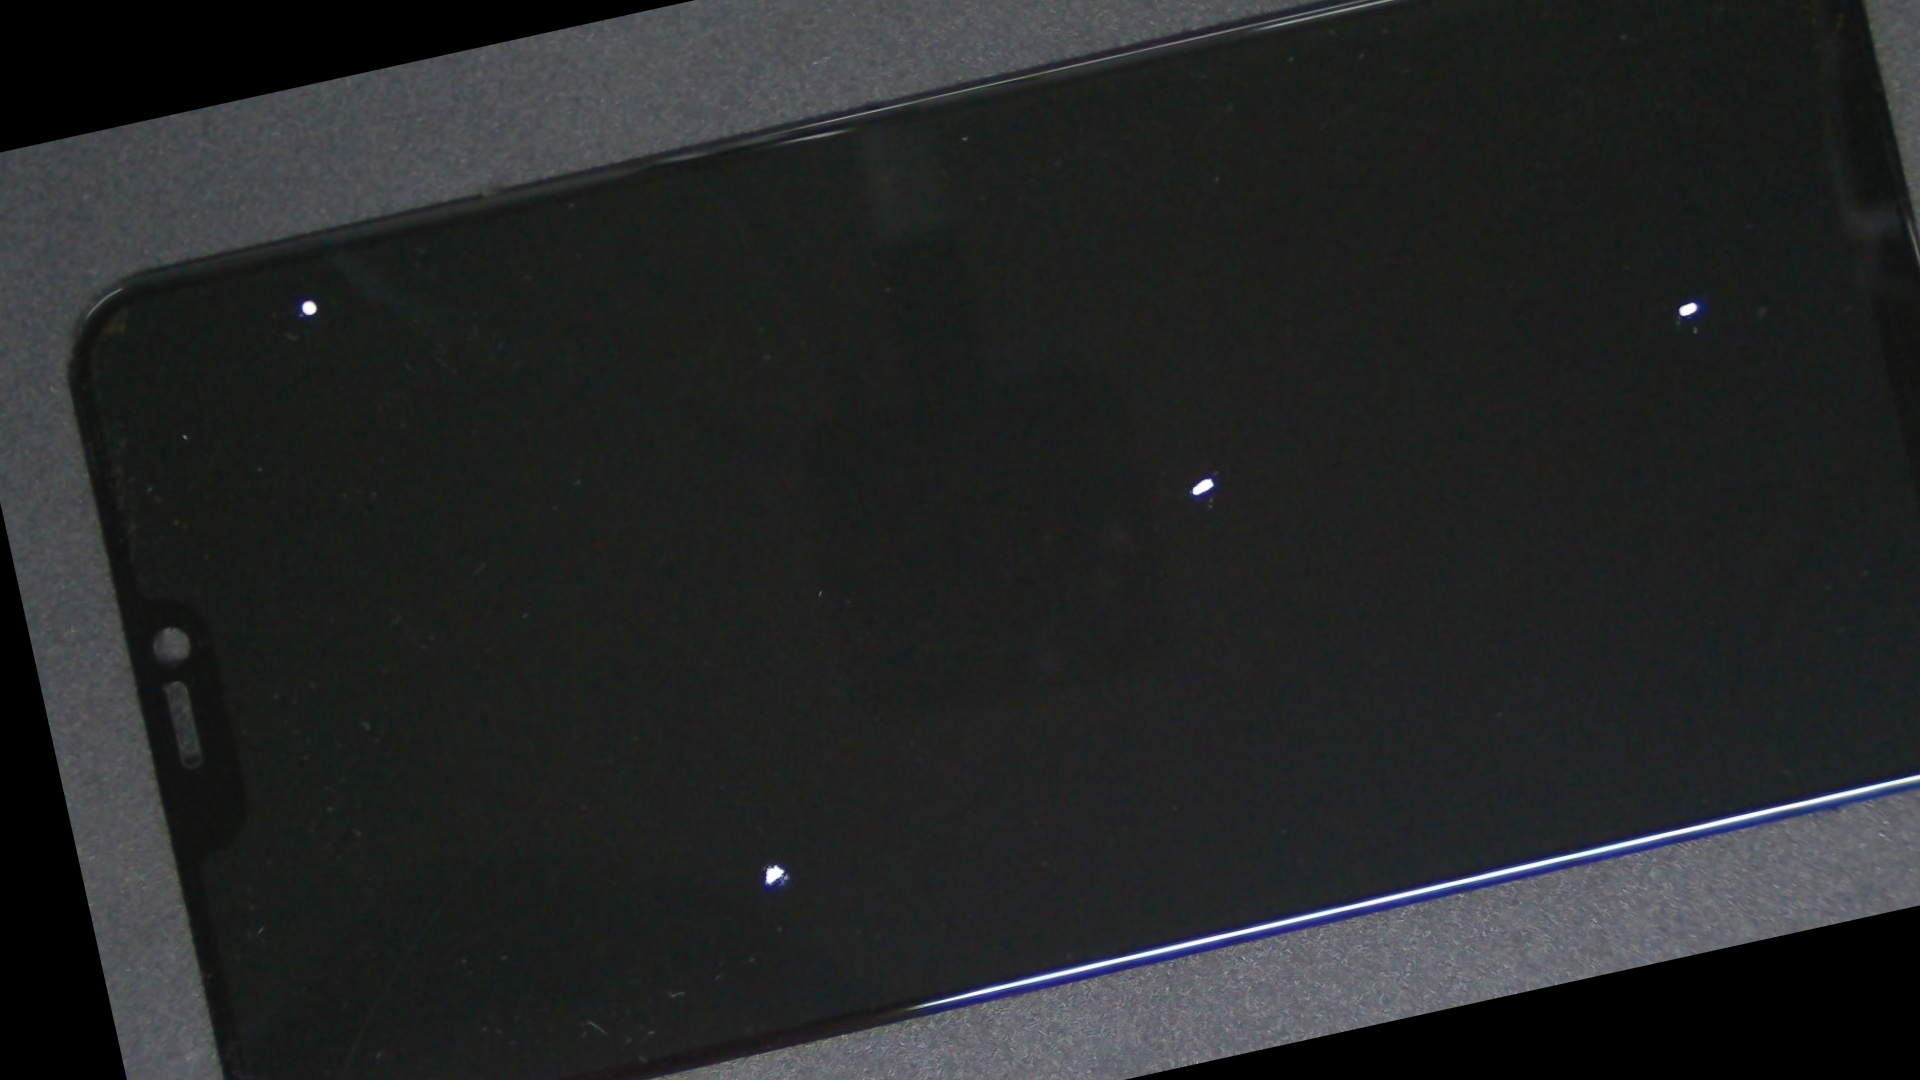oil: (564, 70, 1840, 886), (811, 0, 1920, 732), (347, 373, 1154, 1080), (117, 160, 491, 439)
